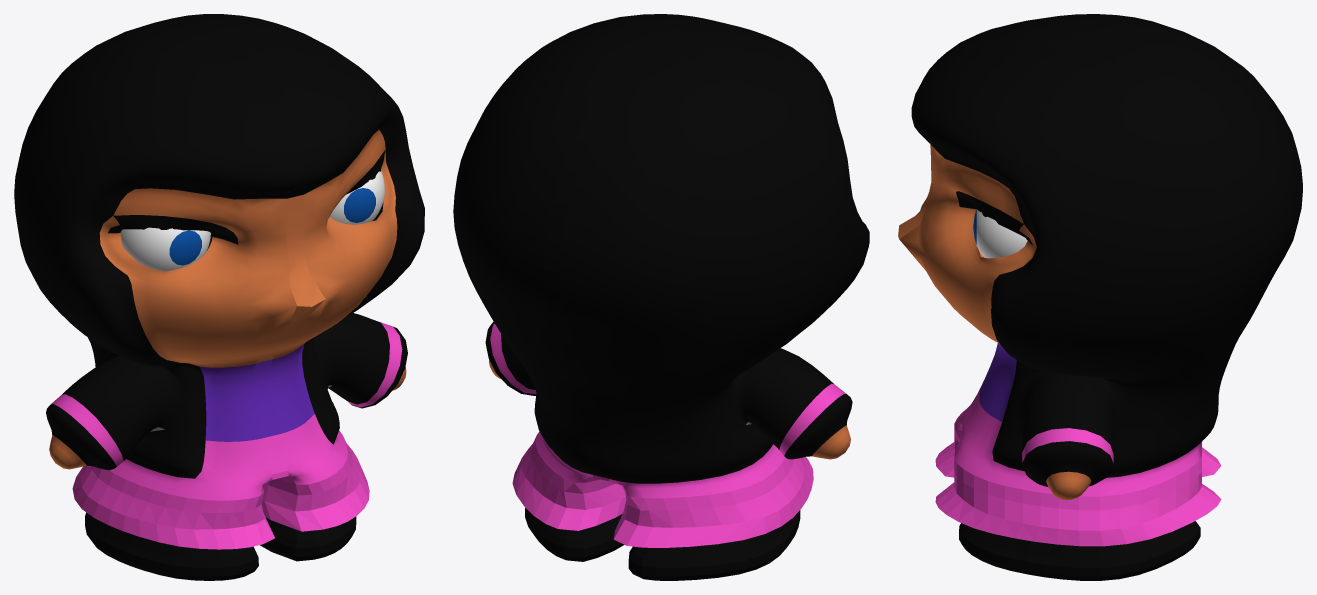
File: Angel.FBX
3 views of the same model, side by side, from view 1: azimuth 30°, elevation 25°; view 2: azimuth 150°, elevation 25°; view 3: azimuth 270°, elevation 25° (orthographic).
Parts seen in each view (by area): view 1: Head; view 2: Head; view 3: Head.
Boxes of the visible parts, <box> form: Head: <box>14,14,424,580</box>; Head: <box>453,14,869,580</box>; Head: <box>898,14,1302,580</box>.
Size of the model in its own units: 61.2 by 80.14 by 60.64.
